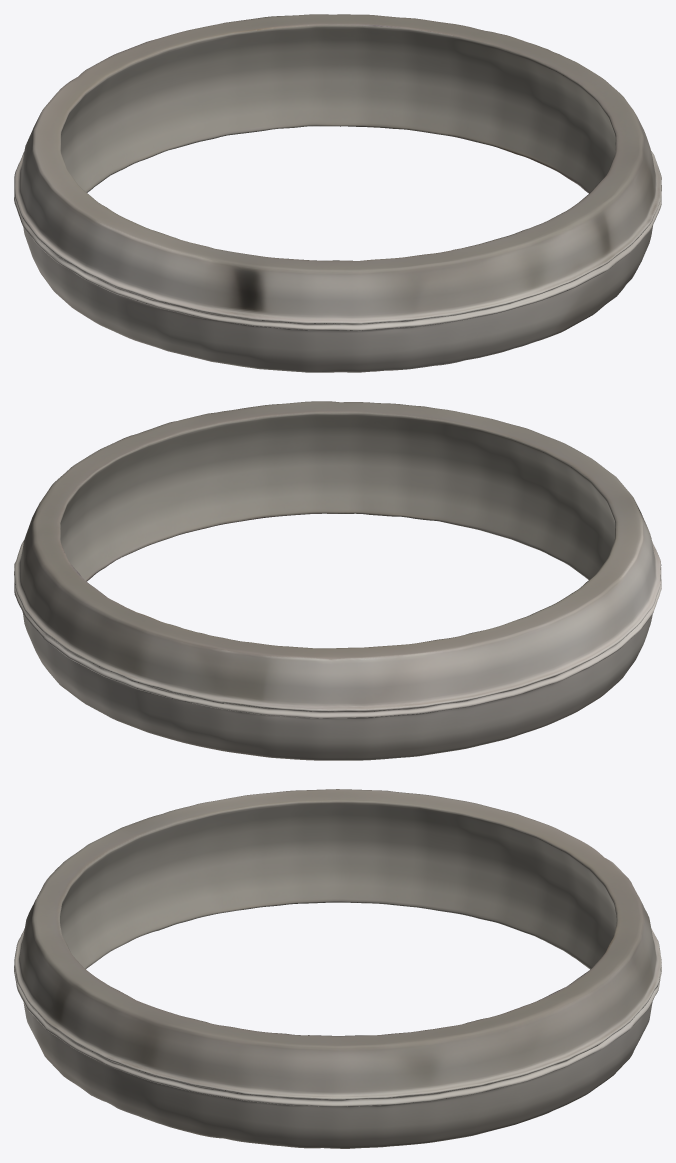
Rendered from bracelet_bangle.glb.
3 views of the same model, one above another, from view 1: azimuth 30°, elevation 25°; view 2: azimuth 150°, elevation 25°; view 3: azimuth 270°, elevation 25° (orthographic).
Visible parts, largest first — view 1: model; view 2: model; view 3: model.
Part boxes in pixels (box(x1,y1,x2,y2)): model: box(14, 14, 661, 372); model: box(14, 401, 661, 760); model: box(14, 789, 661, 1148).
Size of the model in its own units: 1.9 by 0.3321 by 1.9.
Materials: 1 (1 with a texture image).
